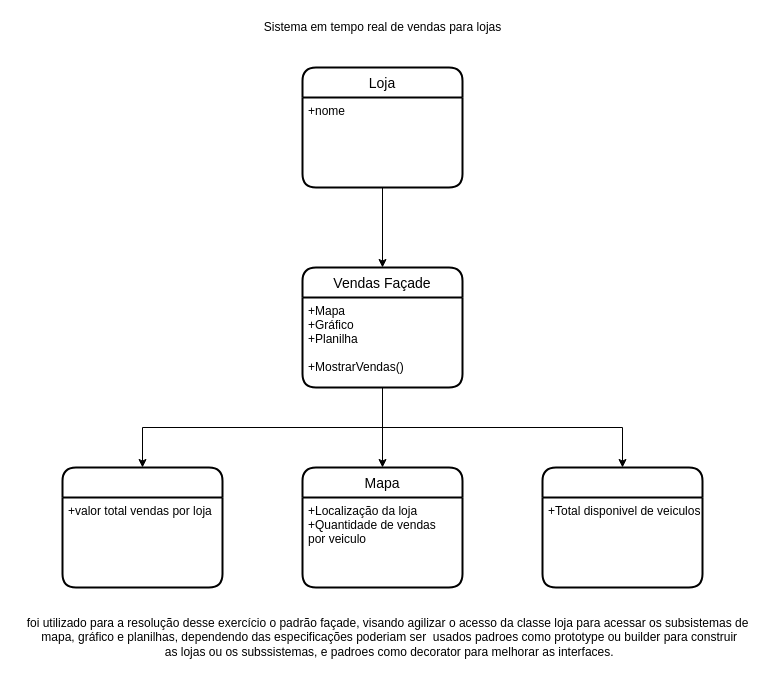
This 774x679 diagram has some shape labels left out. Each missing label, with the box of its shape:
Gráfico: (61, 466, 223, 588)
Planilha: (541, 466, 703, 588)
